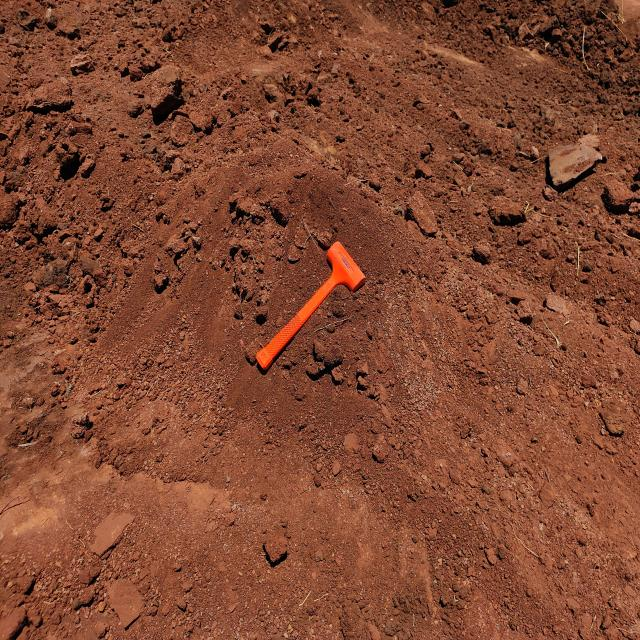Orange_hammer: (255, 240, 366, 372)
